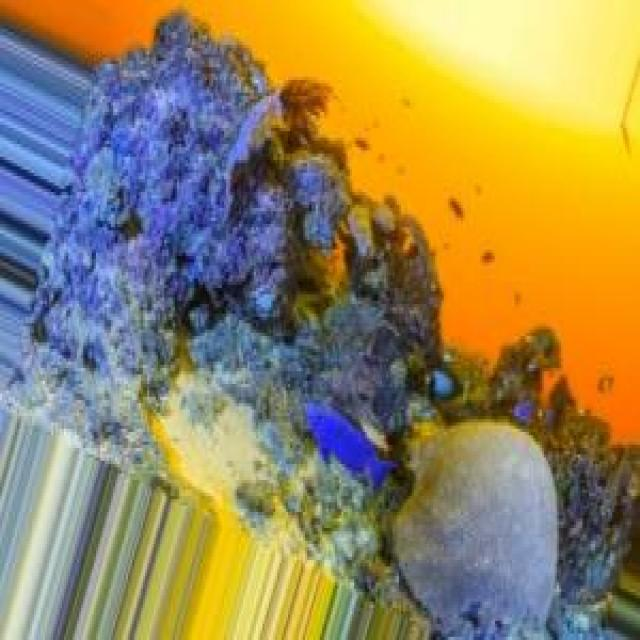Healthy: (46, 14, 458, 640)
